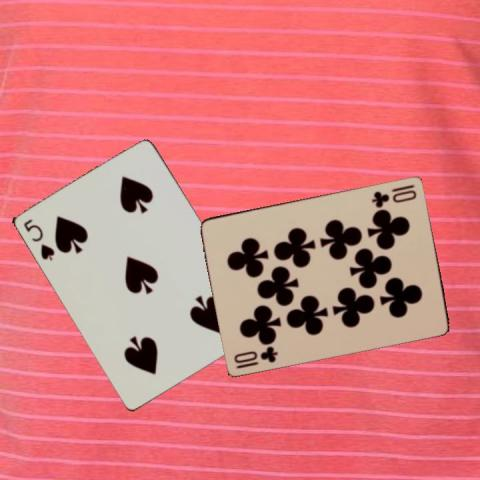10c: (368, 181, 419, 209), (232, 343, 280, 370)
5s: (21, 216, 57, 263)
